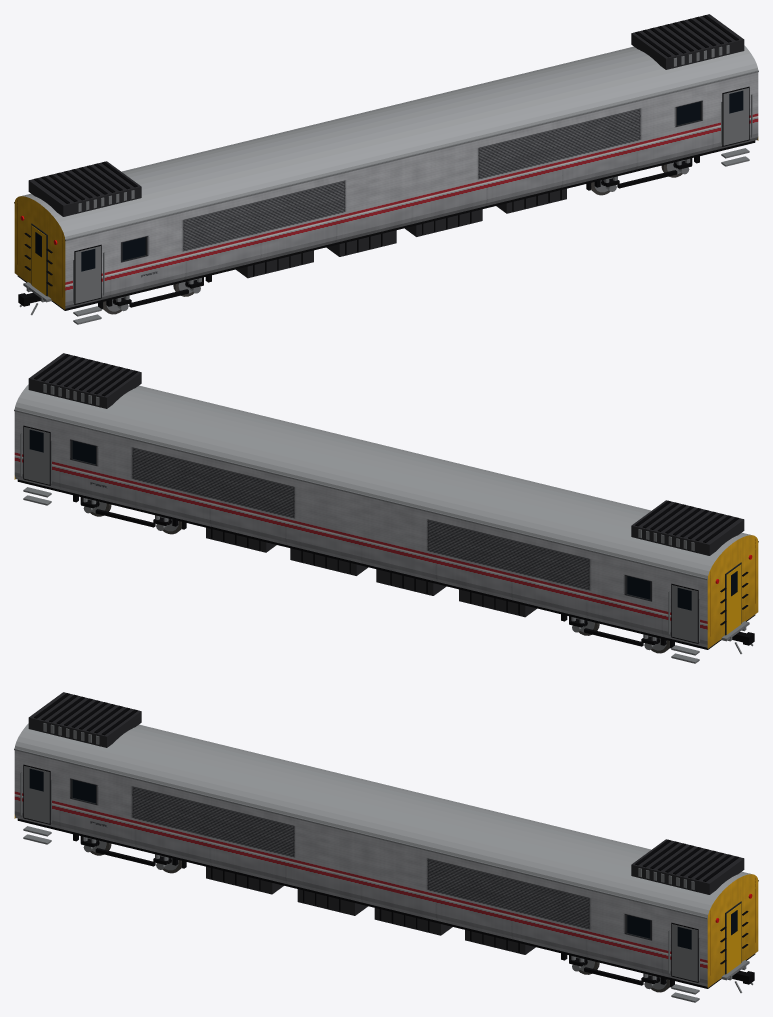
File: cnr_pwr.glb
The picture shows the model from 3 angles, top to bottom: view 1: azimuth 30°, elevation 25°; view 2: azimuth 150°, elevation 25°; view 3: azimuth 330°, elevation 25°; orthographic projection.
Visible parts, largest first — view 1: CNR_PWR; view 2: CNR_PWR; view 3: CNR_PWR.
Boxes of the visible parts, x1,y1,x2,y2 form: CNR_PWR: [14, 14, 758, 324]; CNR_PWR: [14, 353, 758, 663]; CNR_PWR: [14, 692, 758, 1002].
Bounding box in the file's own units: 24.24 × 4.11 × 3.12.
Materials: 10 (1 with a texture image).
